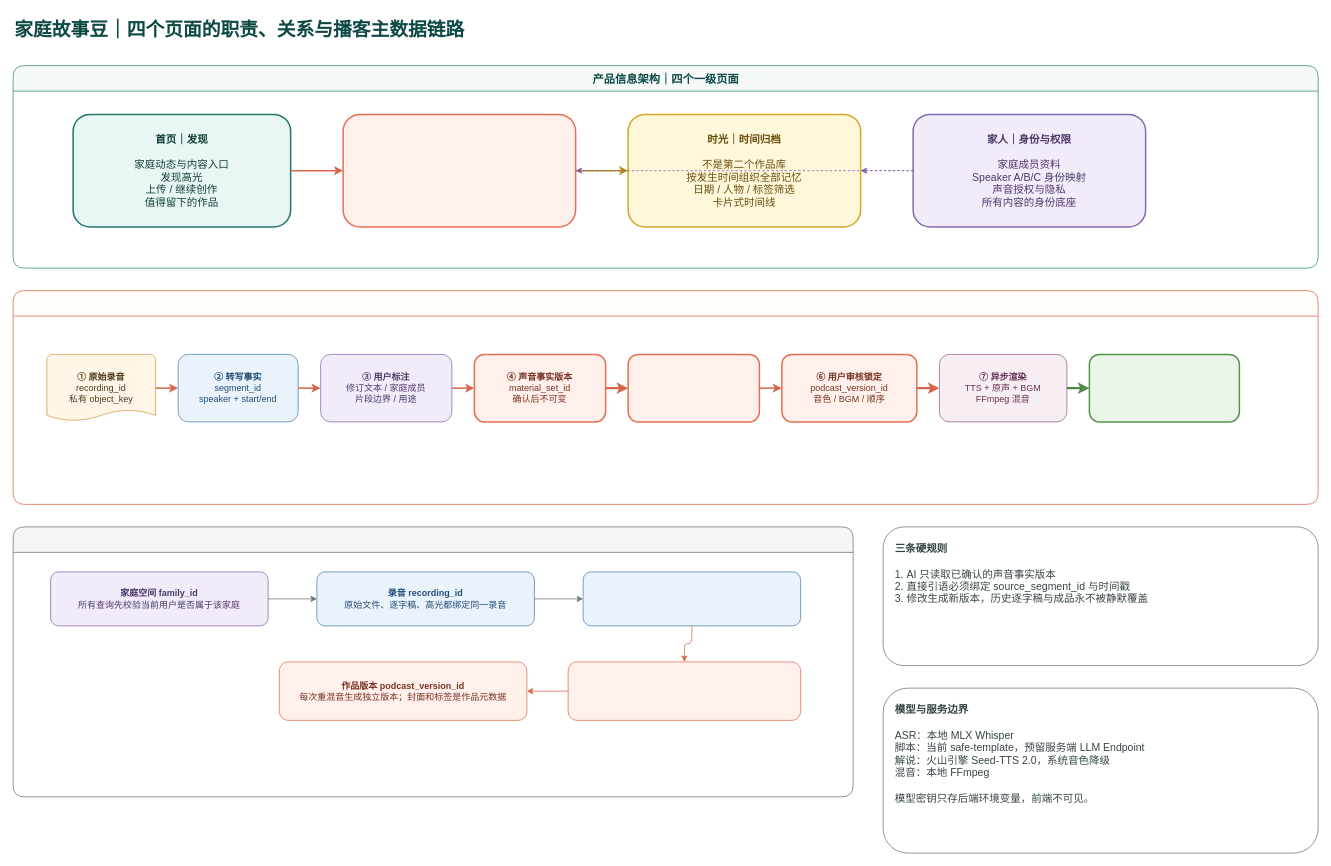
Some shapes in this 1331 by 866 pixel diagram are drawn without their labels. Here are the shapes that lost their labels. From the top down, the box of each, then its label:
(342, 113, 576, 227): 播客｜创作与作品 创作草稿与声音素材 脚本确认 / 生成进度 完整作品播放器 封面、标签、分享
(12, 290, 1318, 504): 播客创作主链路｜每一步都绑定同一 family_id + recording_id + version
(627, 353, 760, 422): ⑤ 串讲策划 PodcastPlan 每段引用素材 ID
(1088, 353, 1240, 422): ⑧ 完整作品 MP3 + 封面 + 标签 播放 / 下载 / 分享
(582, 571, 801, 626): 片段 transcript_segment_id 人物原话永远保留毫秒级来源时间戳
(12, 526, 853, 797): 防止内容“串掉”的数据隔离与版本规则
(567, 661, 801, 720): 素材版本 material_set_id 用户确认后冻结；修改会新增版本，不覆盖旧事实
